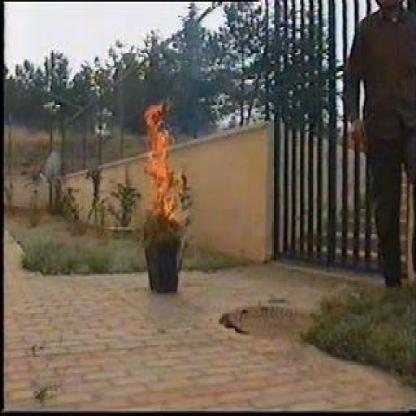foggia-v2-map80-epoch100 - v1 4323: (146, 108, 174, 212)
